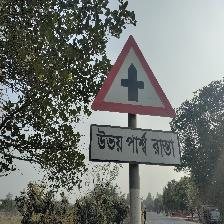Crossroad: (87, 31, 183, 168)
